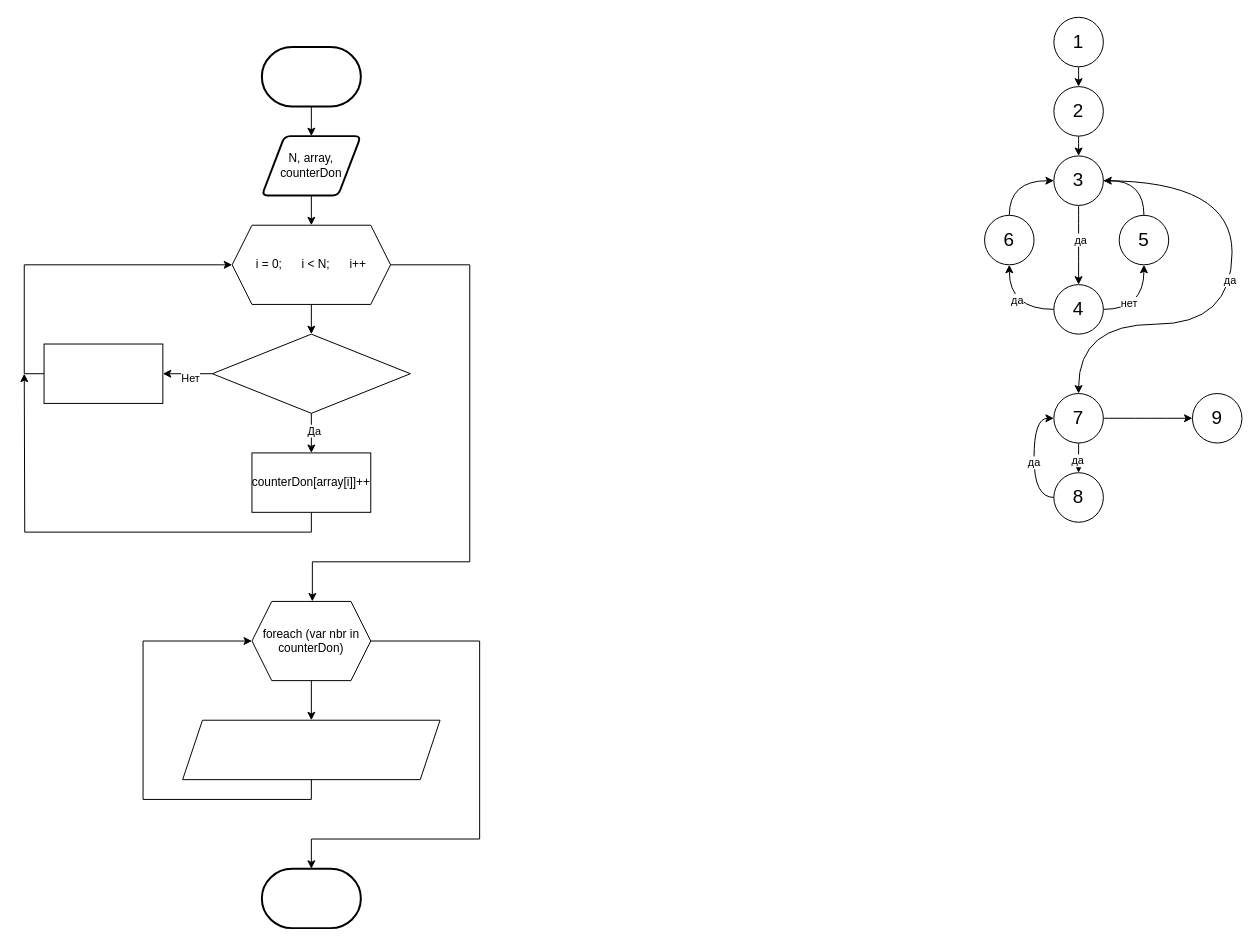
Image size: 1259x946. Some labels were removed from this diagram. Each missing label, with the centre of its shape:
"counterDon. Add(array[i], 1)" goes at [103,373].
"counterDon. ContainsKey(array[i])" goes at [310,373].
"КонецДон" goes at [310,898].
"НачалоДон" goes at [310,76].
"Число вхождения числадон {nbr.Key} в массивдон = {nbr.Value}" goes at [311,749].
